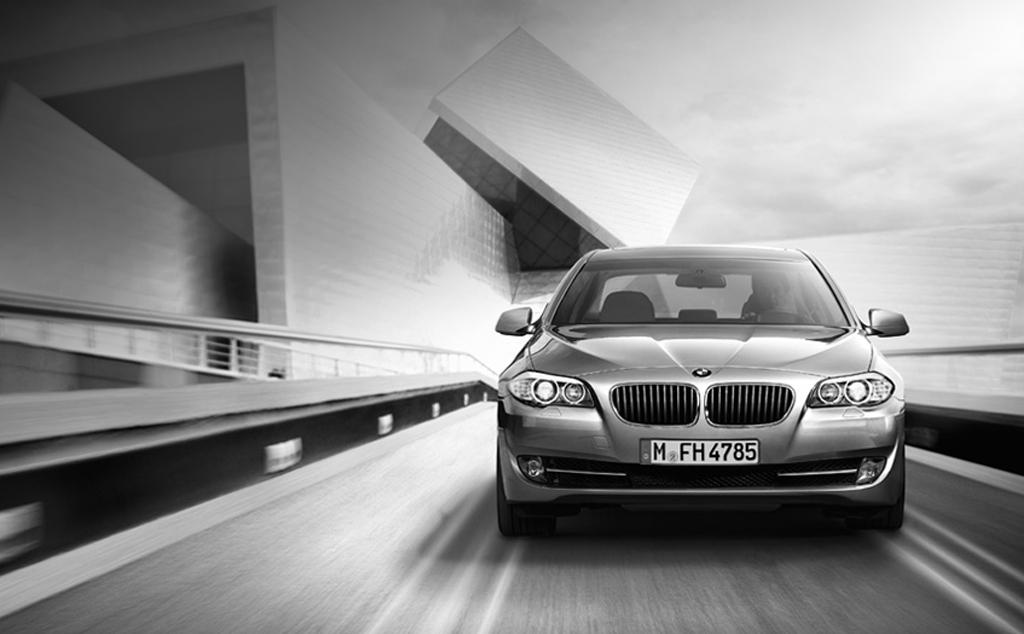car: (492, 248, 916, 538)
